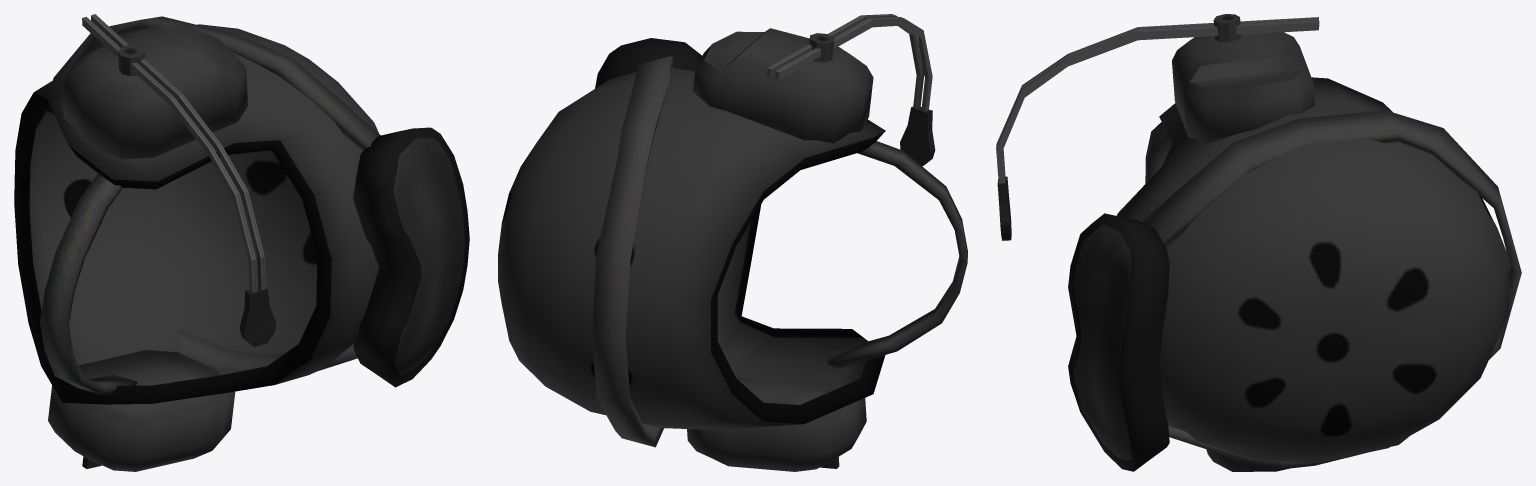
The model's file is BumpHelmet3.fbx.
3 renders of one model, left to right at view 1: azimuth 30°, elevation 25°; view 2: azimuth 150°, elevation 25°; view 3: azimuth 270°, elevation 25°, orthographic. The views are drawn at different scales.
Parts seen in each view (by area): view 1: Cube.002; view 2: Cube.002; view 3: Cube.002.
Part boxes in pixels (bbox=[...]): Cube.002: bbox=[14, 14, 469, 471]; Cube.002: bbox=[498, 14, 967, 471]; Cube.002: bbox=[996, 14, 1521, 471].
Size of the model in its own units: 0.1951 by 0.1951 by 0.2211.
